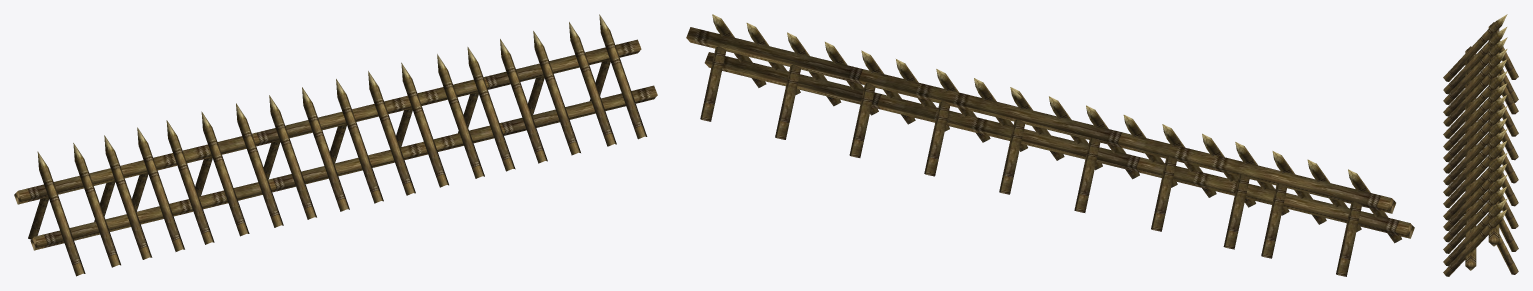
File: bagh_barricade06.glb
3 views of the same model, side by side, from view 1: azimuth 30°, elevation 25°; view 2: azimuth 150°, elevation 25°; view 3: azimuth 270°, elevation 25° (orthographic). The views are drawn at different scales.
Parts seen in each view (by area): view 1: res\bldg\arabia\bagh_city\event\bagh_barricade06.bsr; view 2: res\bldg\arabia\bagh_city\event\bagh_barricade06.bsr; view 3: res\bldg\arabia\bagh_city\event\bagh_barricade06.bsr.
Boxes of the visible parts, x1,y1,x2,y2 form: res\bldg\arabia\bagh_city\event\bagh_barricade06.bsr: (14,14,657,276); res\bldg\arabia\bagh_city\event\bagh_barricade06.bsr: (686,14,1414,276); res\bldg\arabia\bagh_city\event\bagh_barricade06.bsr: (1443,14,1518,276).
Size of the model in its own units: 90 by 13.28 by 13.4.
Materials: 1 (1 with a texture image).
